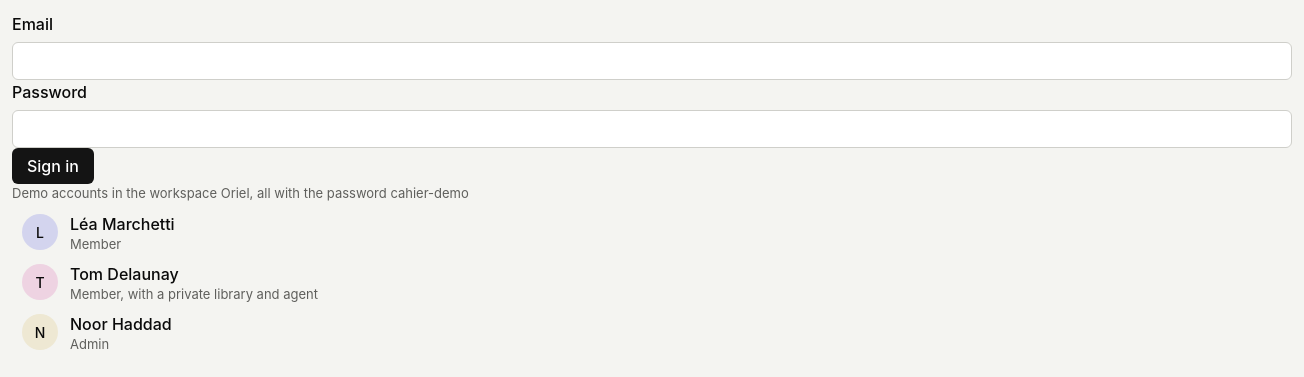
the sign-in form › fills the form from a demo account
Click the button "N Noor Haddad Admin".
click(40, 332)  # box [12,308,1292,356]
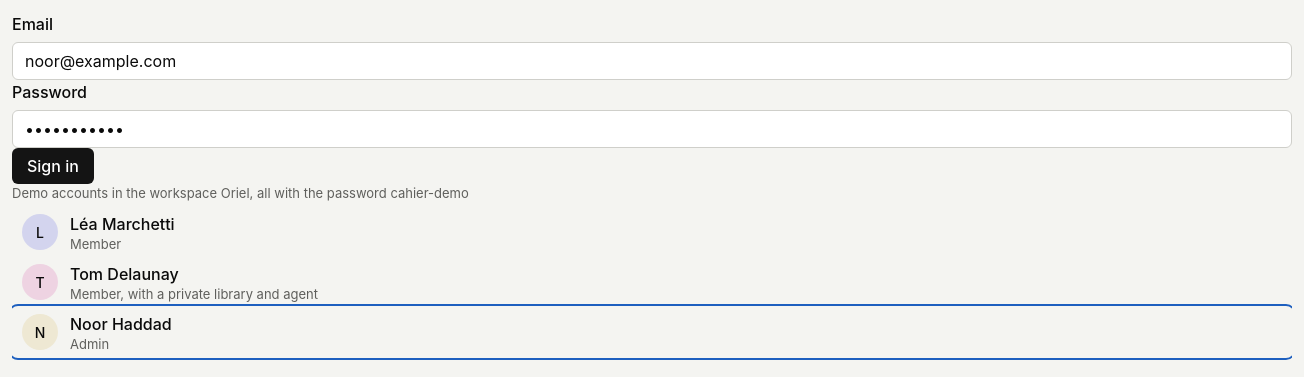
Expected: the field labelled "Email" holds "noor@example.com", [12,42,1292,80]
Expected: the password field labelled "Password" holds "cahier-demo", [12,110,1292,148]
